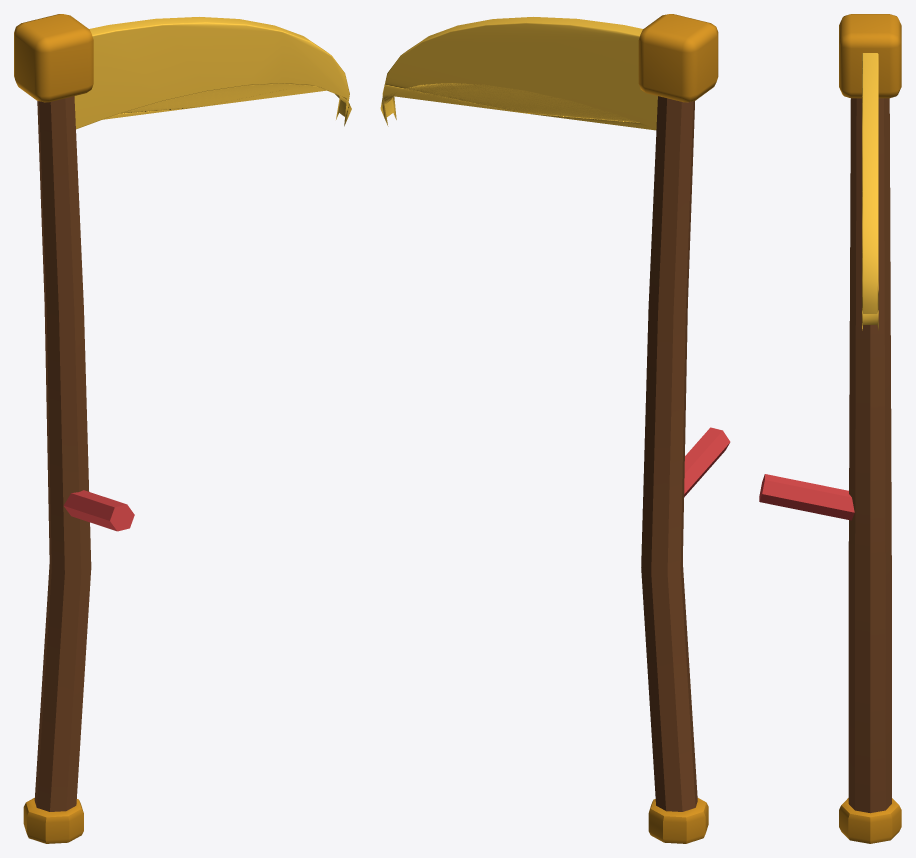
Rendered from GoldScythe.fbx.
The picture shows the model from 3 angles, left to right: view 1: azimuth 30°, elevation 25°; view 2: azimuth 150°, elevation 25°; view 3: azimuth 270°, elevation 25°; orthographic projection.
Parts seen in each view (by area): view 1: GoldScythe; view 2: GoldScythe; view 3: GoldScythe.
Part boxes in pixels (x1,y1,x2,y2): GoldScythe: [14, 14, 351, 843]; GoldScythe: [380, 14, 730, 843]; GoldScythe: [759, 14, 901, 843].
Size of the model in its own units: 1.56 by 3.72 by 0.5913.
1 material, 1 textured.
